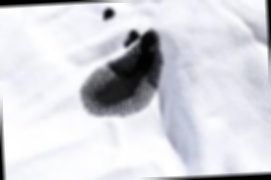ink: (79, 30, 166, 120), (101, 7, 117, 21)
